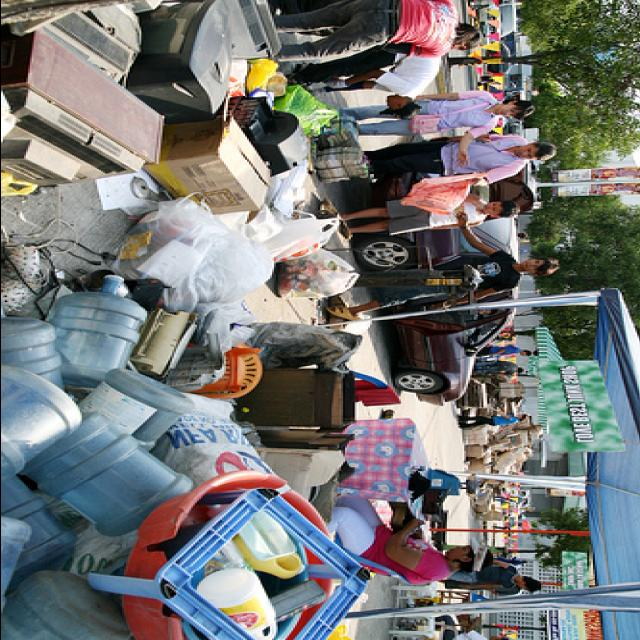garbage: (0, 0, 349, 640)
